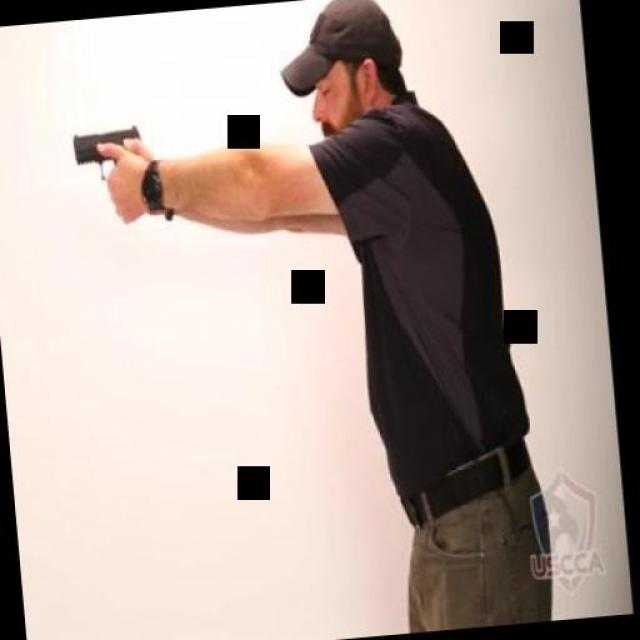gun: (68, 121, 160, 221)
